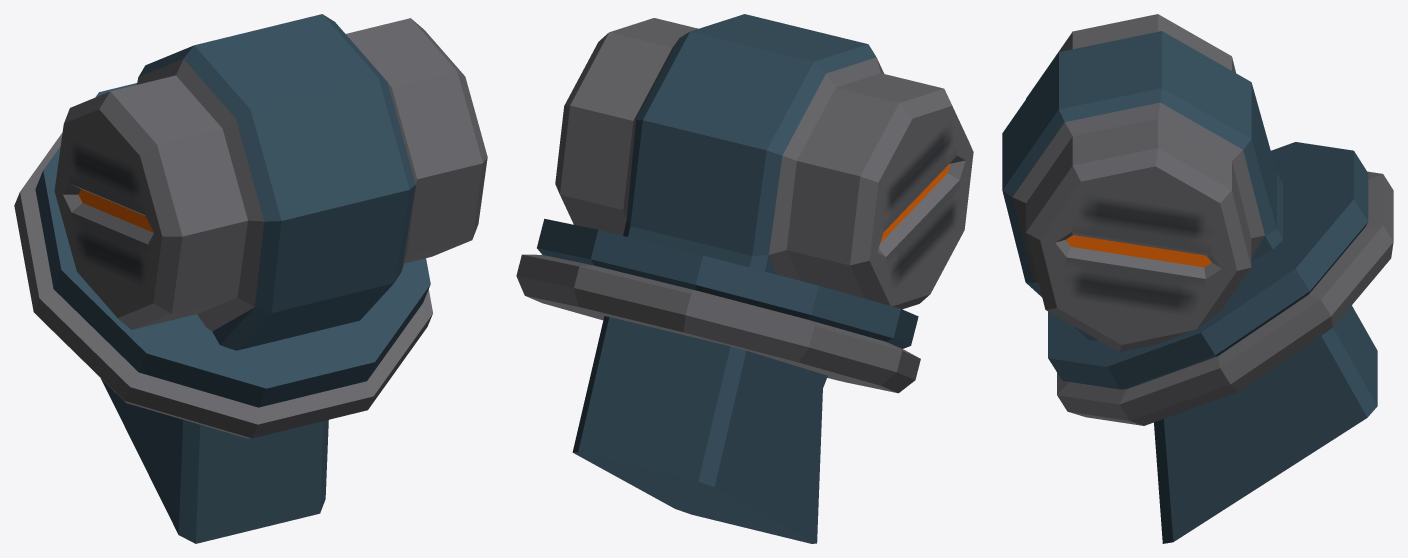
File: SM_Mech_Neck_01_Frame_01.fbx
The picture shows the model from 3 angles, left to right: view 1: azimuth 30°, elevation 25°; view 2: azimuth 150°, elevation 25°; view 3: azimuth 270°, elevation 25°; orthographic projection. The views are drawn at different scales.
Parts seen in each view (by area): view 1: SM_Mech_Neck_01_Frame_01; view 2: SM_Mech_Neck_01_Frame_01; view 3: SM_Mech_Neck_01_Frame_01.
Part boxes in pixels (<box>): SM_Mech_Neck_01_Frame_01: <box>14,14,487,543</box>; SM_Mech_Neck_01_Frame_01: <box>516,14,973,543</box>; SM_Mech_Neck_01_Frame_01: <box>1002,14,1393,543</box>.
Size of the model in its own units: 34.02 by 43.36 by 33.66.
